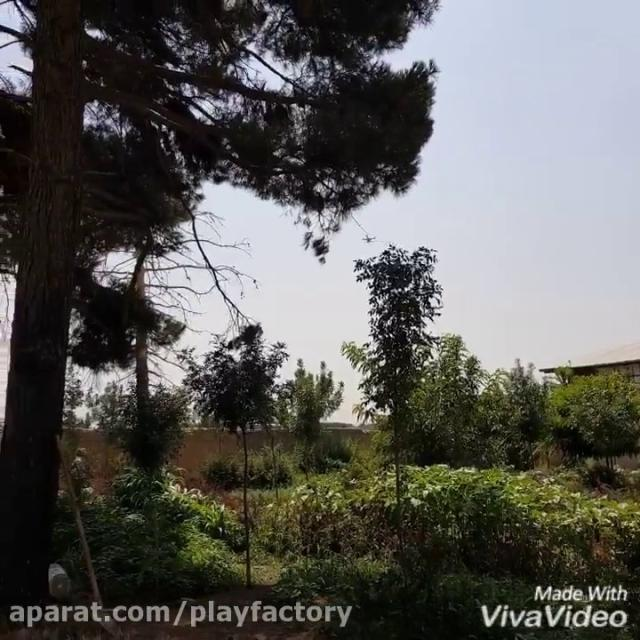drone: (359, 230, 380, 246)
